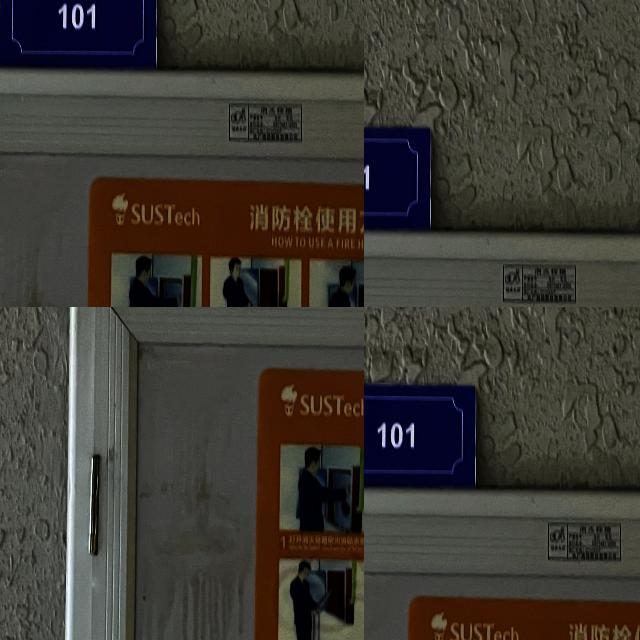Card: (0, 97, 286, 307), (364, 93, 469, 307), (364, 357, 490, 510), (228, 506, 364, 640), (0, 307, 67, 453)
